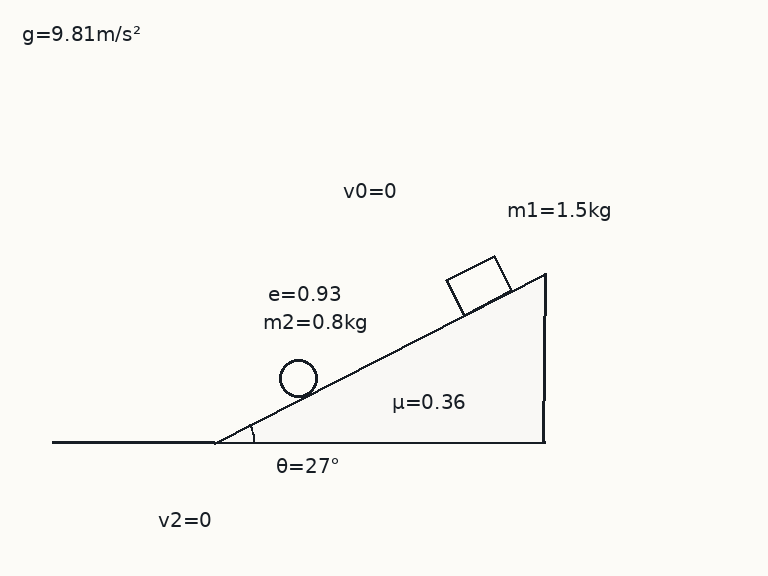ball: (277, 357, 319, 399)
block: (444, 254, 514, 317)
ramp: (212, 272, 547, 444)
